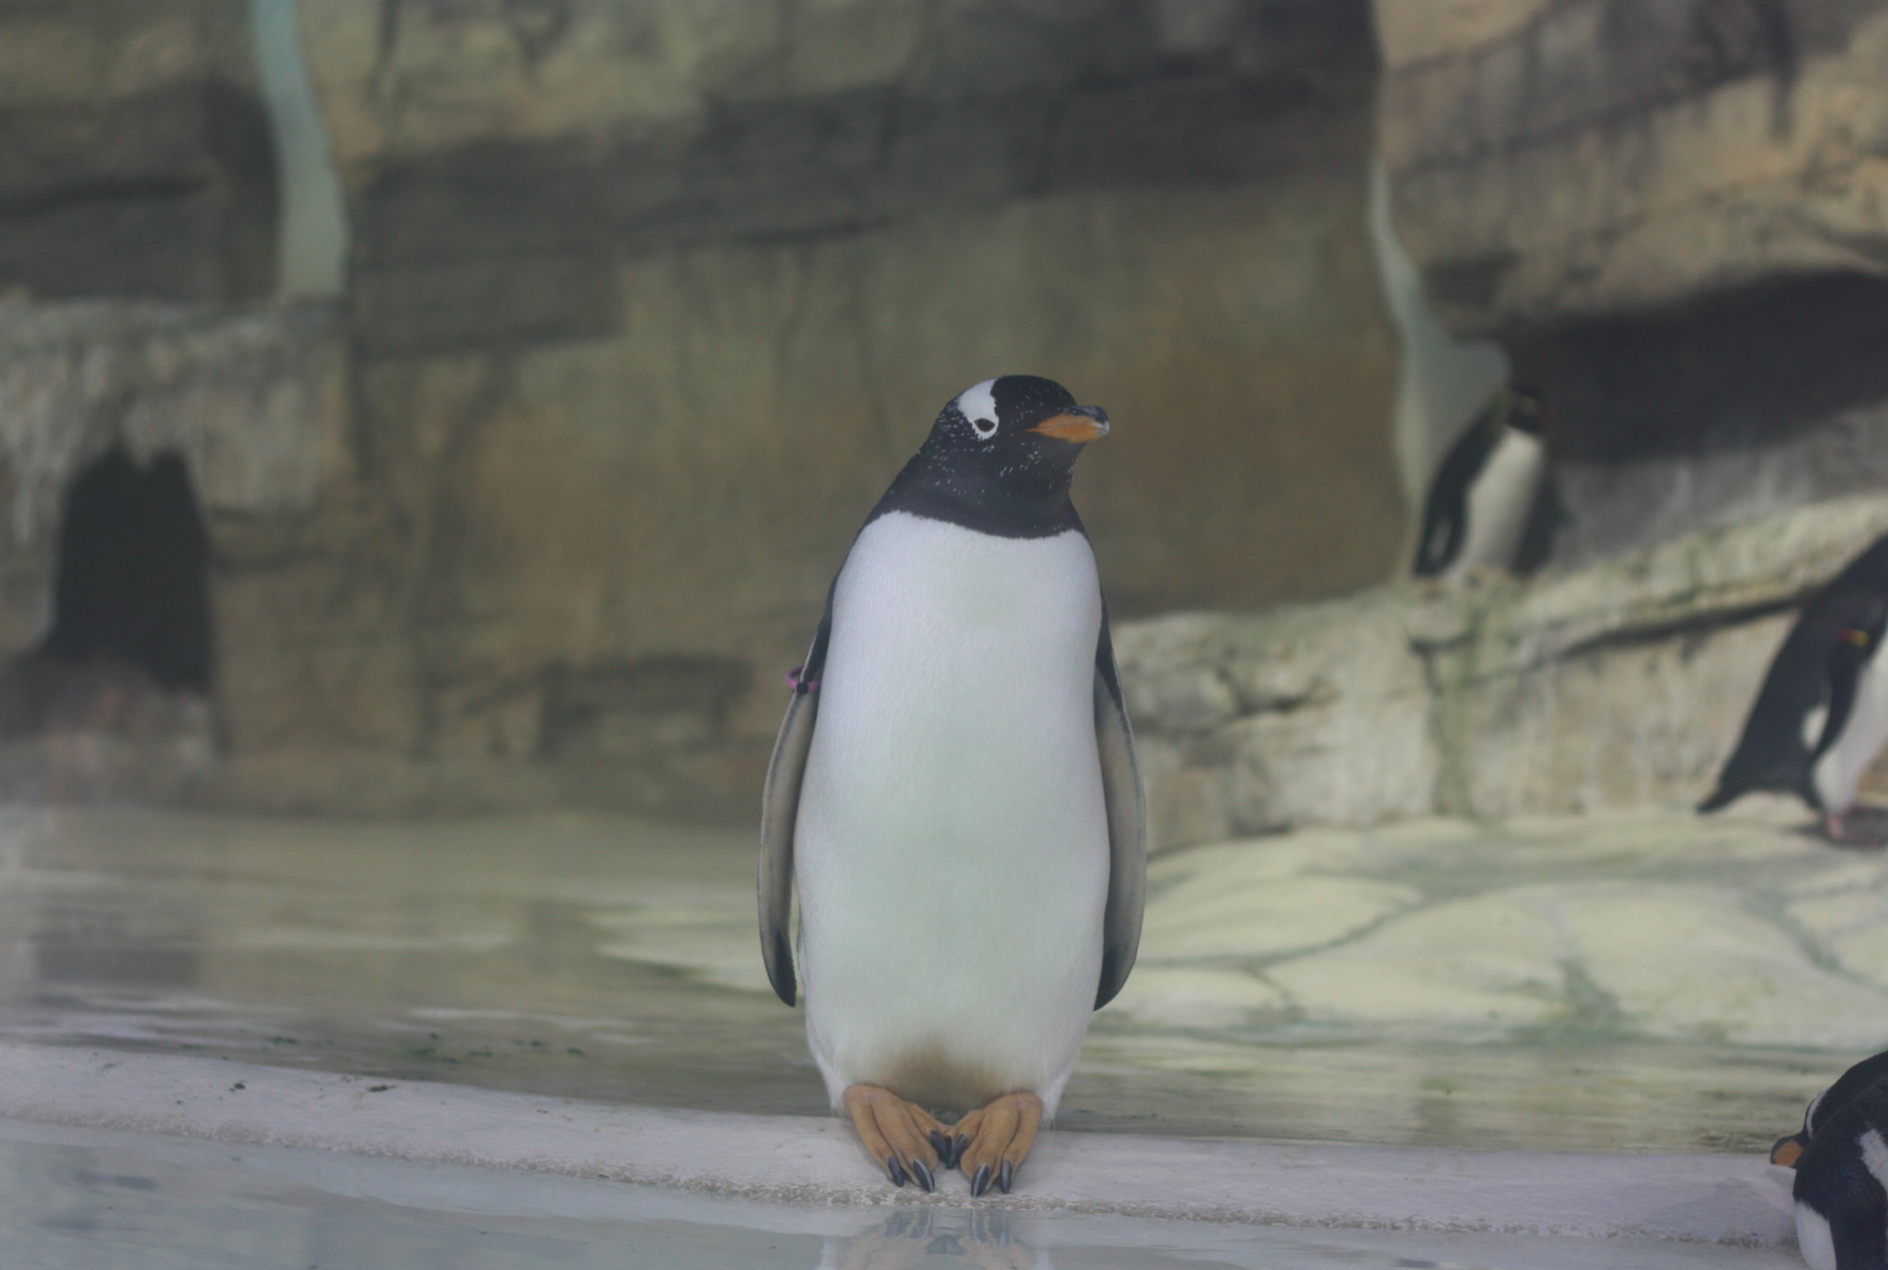penguin: (724, 369, 1154, 1226)
